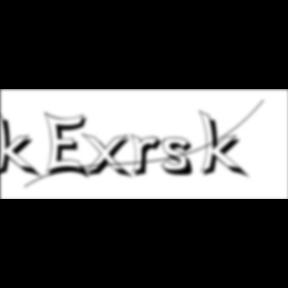E: (44, 110, 94, 182)
k: (198, 108, 252, 181), (0, 108, 44, 181)
r: (131, 134, 169, 180)
s: (162, 137, 200, 179)
x: (82, 132, 136, 181)
